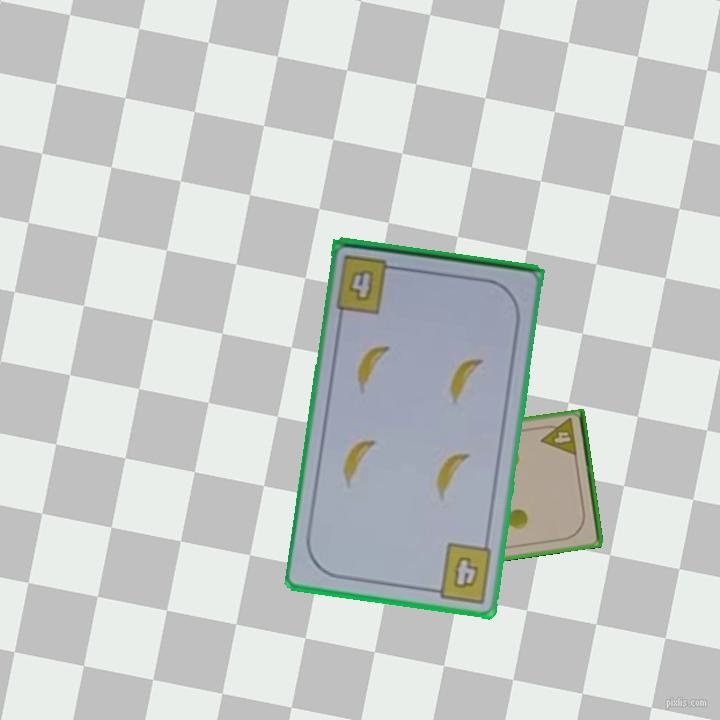4b: (425, 539, 496, 606), (332, 251, 404, 317)
4p: (536, 415, 580, 459)
